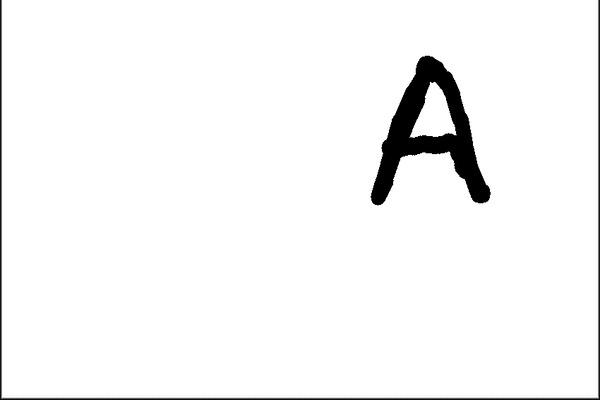A: (364, 50, 507, 216)
